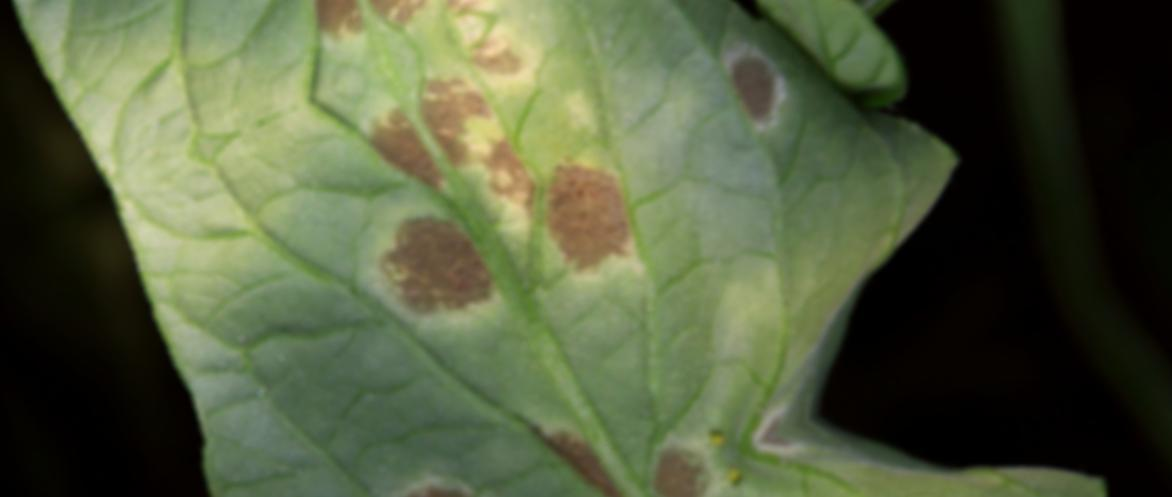Tomato mold leaf: (58, 0, 1021, 497)
